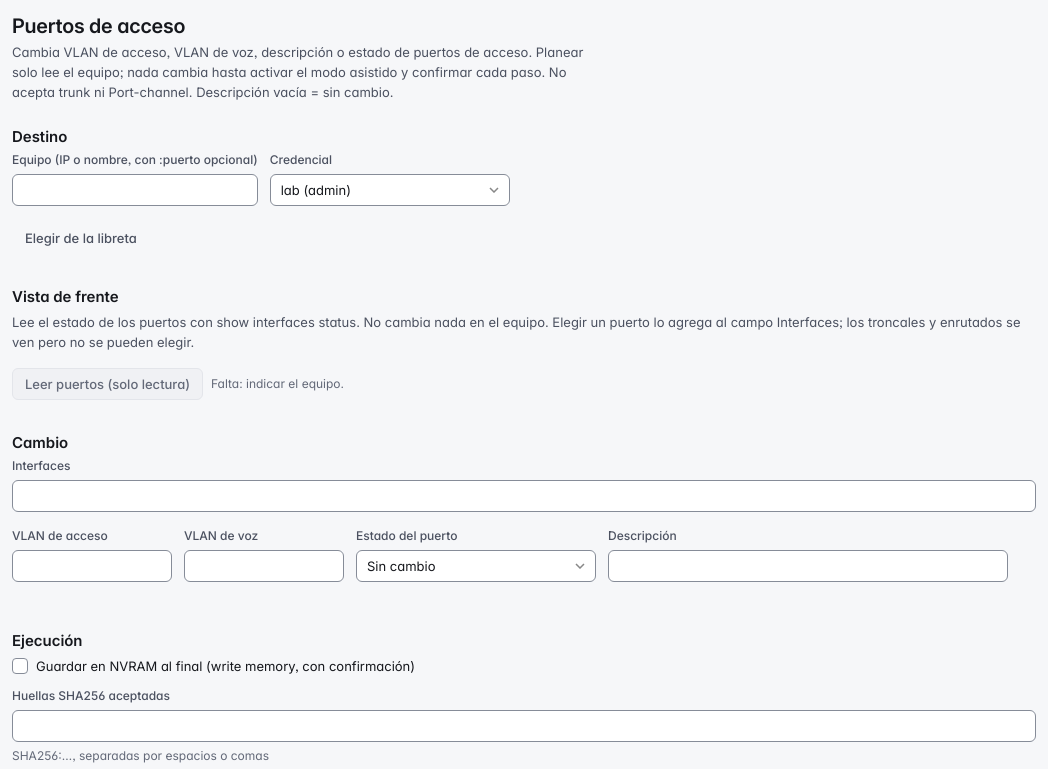
Test: si la lectura falla lo dice y no dibuja el frente
The width and height of the screenshot is (1048, 769).
expect the button "Leer puertos (solo lectura)" is disabled: met, box [12,368,203,400]
Type "10.0.0.5:2222" into the field labelled "Equipo (IP o nombre, con :puerto opcional)". click: (135, 190)
box: [12,174,258,206]
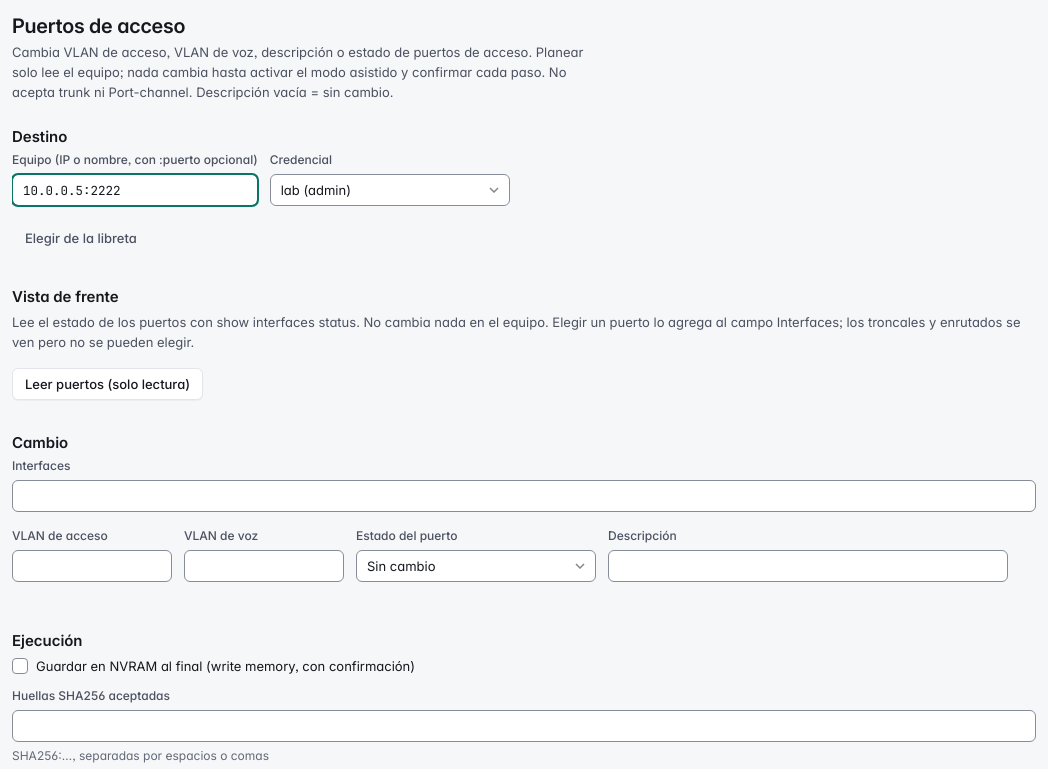
Click the button "Leer puertos (solo lectura)". click: (108, 384)
box: [12,368,203,400]
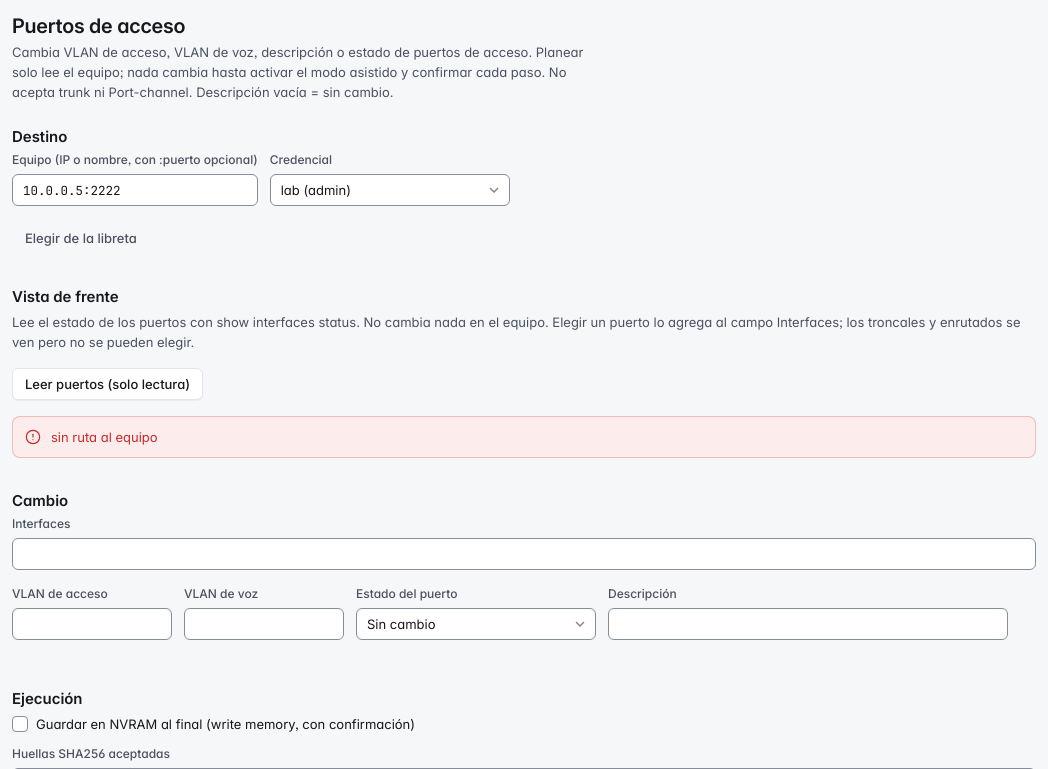
expect the message reads "sin ruta al equipo": met, box [51,429,158,445]
